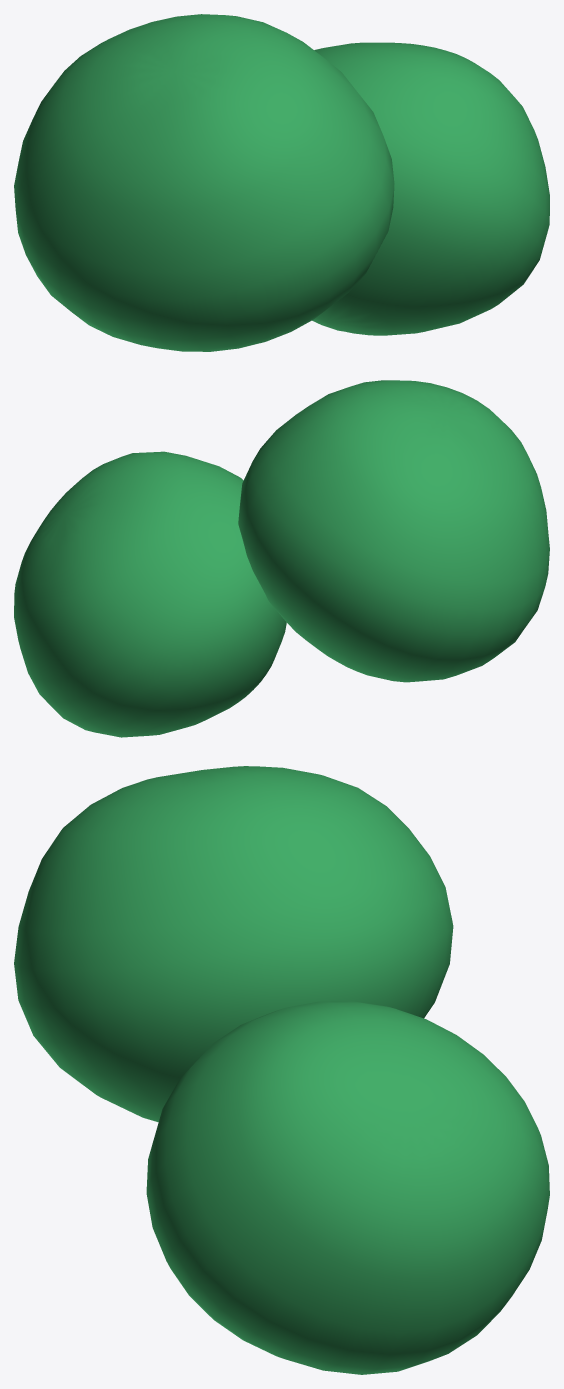
Rendered from Tree_Top_B_02.fbx.
3 renders of one model, top to bottom at view 1: azimuth 30°, elevation 25°; view 2: azimuth 150°, elevation 25°; view 3: azimuth 270°, elevation 25°, orthographic. The views are drawn at different scales.
Parts seen in each view (by area): view 1: Tree_Top_B_02_LOD0; view 2: Tree_Top_B_02_LOD0; view 3: Tree_Top_B_02_LOD0.
Part boxes in pixels (x1,y1,x2,y2): Tree_Top_B_02_LOD0: [14, 14, 549, 351]; Tree_Top_B_02_LOD0: [14, 380, 549, 737]; Tree_Top_B_02_LOD0: [14, 766, 549, 1374].
Size of what is drawn, in the model's own units: 986 by 694 by 763.
